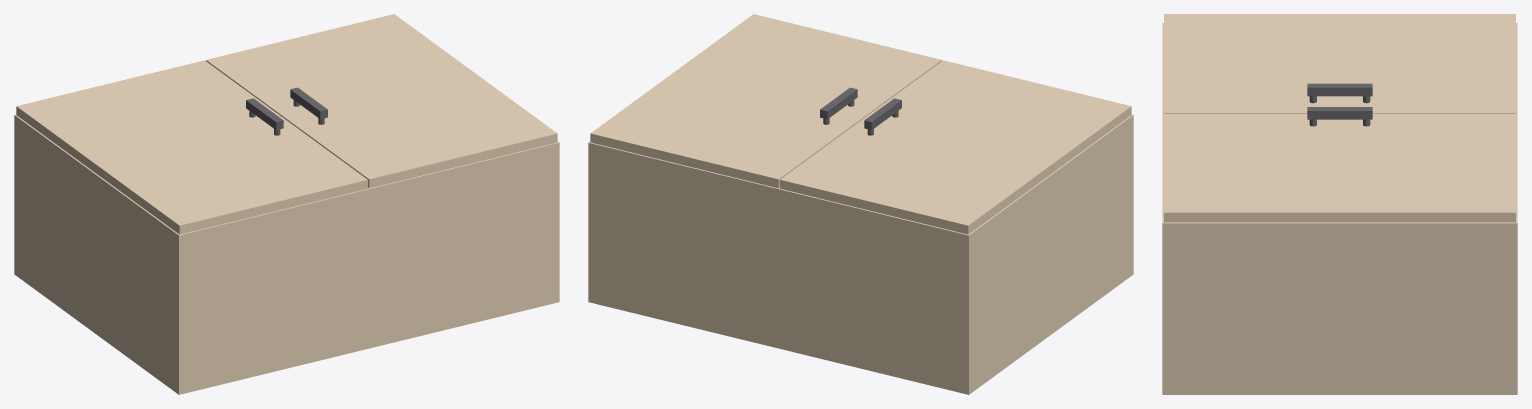
File: wall_cabinet.glb
3 renders of one model, left to right at view 1: azimuth 30°, elevation 25°; view 2: azimuth 150°, elevation 25°; view 3: azimuth 270°, elevation 25°, orthographic. The views are drawn at different scales.
Visible parts, largest first — view 1: plywood, metal_black; view 2: plywood, metal_black; view 3: plywood, metal_black.
Part boxes in pixels (x1=…): plywood: x1=14, y1=14, x2=559, y2=394; metal_black: x1=246, y1=87, x2=327, y2=135; plywood: x1=588, y1=14, x2=1133, y2=394; metal_black: x1=820, y1=87, x2=901, y2=135; plywood: x1=1162, y1=14, x2=1517, y2=394; metal_black: x1=1307, y1=83, x2=1372, y2=126.
Size of the model in its own units: 0.8 by 0.368 by 0.6.
